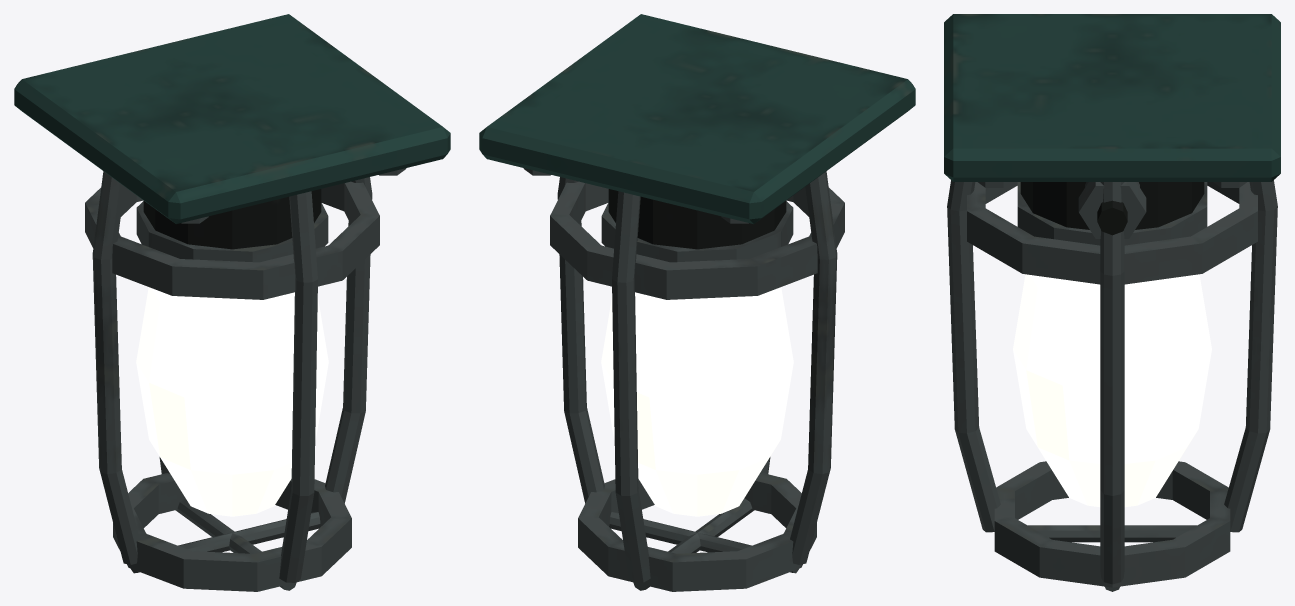
File: ceiling_bulb.glb
3 renders of one model, left to right at view 1: azimuth 30°, elevation 25°; view 2: azimuth 150°, elevation 25°; view 3: azimuth 270°, elevation 25°, orthographic. The views are drawn at different scales.
Visible parts, largest first — view 1: ceiling_bulb; view 2: ceiling_bulb; view 3: ceiling_bulb.
Part boxes in pixels (x1=…): ceiling_bulb: x1=14, y1=14, x2=450, y2=591; ceiling_bulb: x1=479, y1=14, x2=915, y2=591; ceiling_bulb: x1=944, y1=14, x2=1280, y2=591.
Size of the model in its own units: 0.2215 by 0.332 by 0.22.
Materials: 2 (1 with a texture image).
